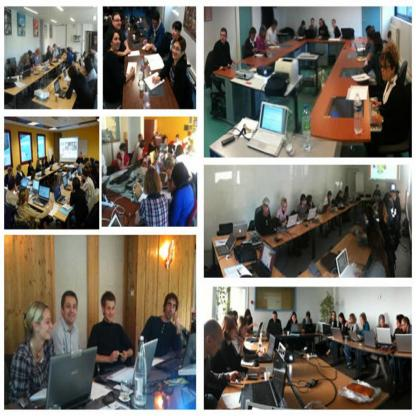board: (38, 350, 93, 410), (105, 336, 158, 386), (248, 100, 287, 159), (252, 348, 288, 408), (154, 334, 195, 372), (245, 239, 276, 277), (132, 336, 147, 408), (336, 248, 358, 279), (257, 336, 275, 363), (217, 232, 235, 257), (302, 104, 311, 151), (245, 322, 264, 342), (51, 182, 67, 205), (133, 180, 148, 204), (364, 328, 380, 350), (376, 327, 394, 346), (354, 94, 362, 136), (32, 186, 48, 206), (395, 334, 412, 352), (332, 324, 347, 342), (53, 78, 66, 98), (282, 213, 298, 229), (348, 326, 362, 344), (28, 178, 39, 196), (233, 223, 246, 238), (303, 209, 317, 221), (322, 322, 332, 338), (63, 176, 72, 192), (61, 66, 71, 80), (17, 178, 28, 190), (302, 323, 316, 332), (291, 325, 303, 335), (76, 164, 83, 176), (67, 170, 74, 180)
